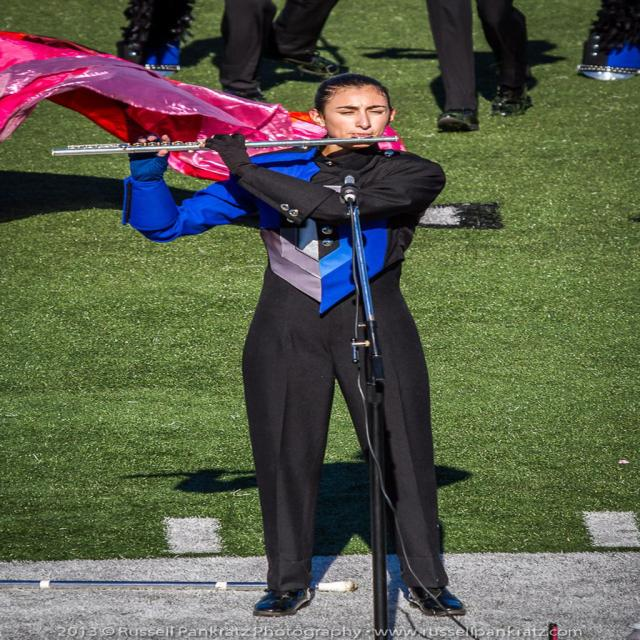Face: (314, 81, 402, 153)
